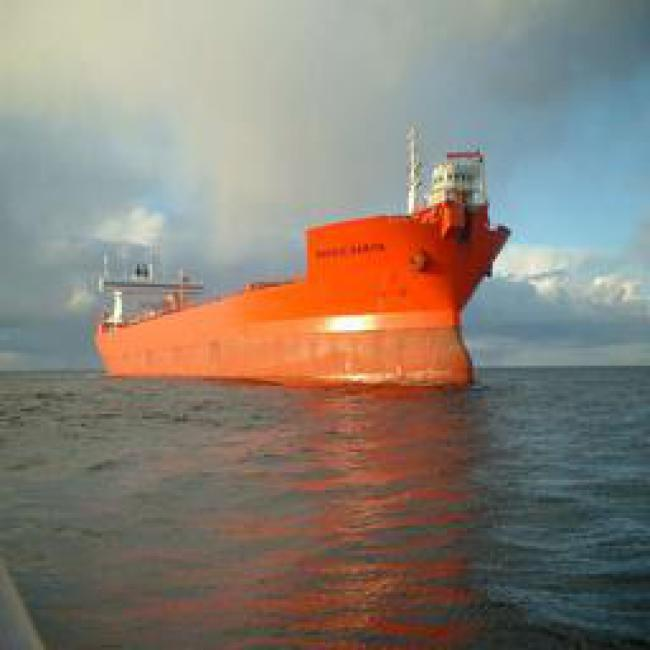Ship: (84, 240, 485, 394)
